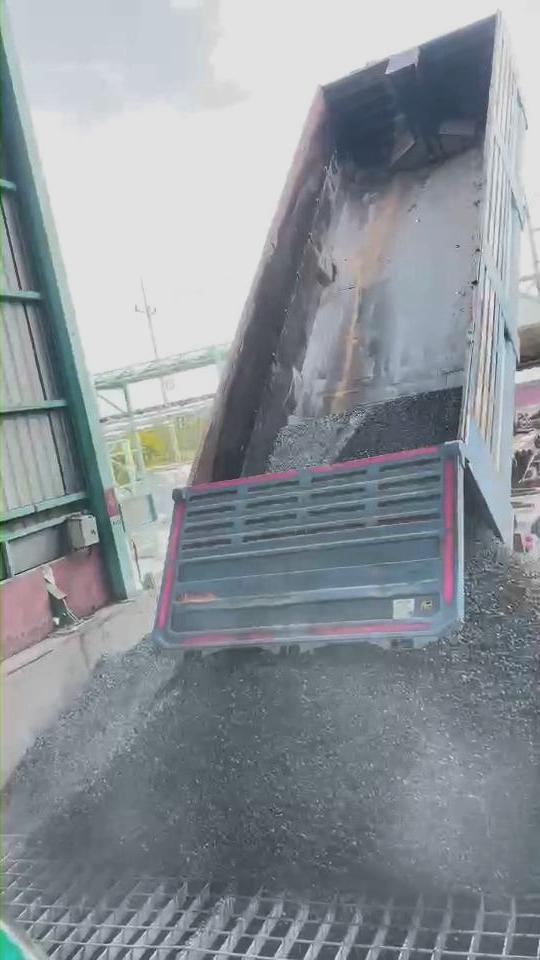gravel: (6, 537, 540, 895), (268, 390, 457, 465)
